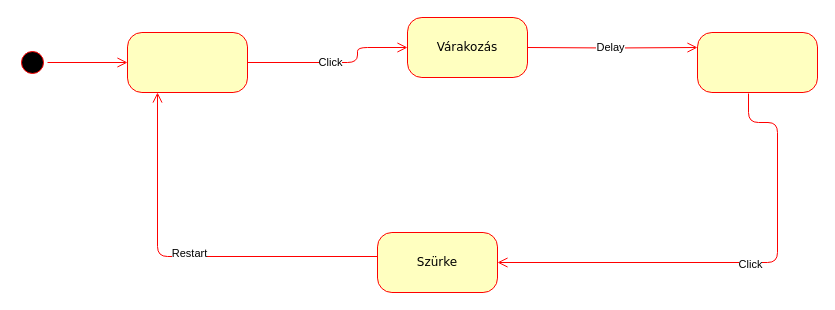
The diagram is 835 pixels wide and 310 high, and some of its shapes have lost their labels. The shapes that lost their labels are listed below. From the top down, each one's box as (x1, y1, x2, y2) in pixels, then its label:
(126, 32, 248, 92): Piros
(696, 32, 818, 92): Zöld
